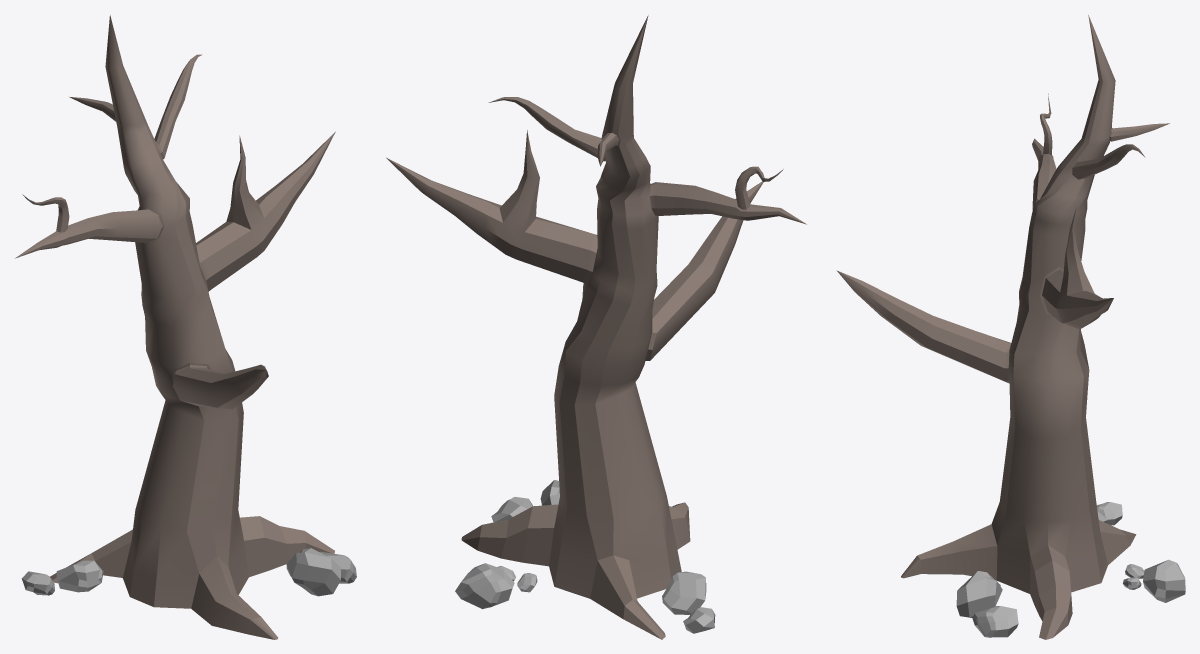
Rendered from ArbolMedio.fbx.
The picture shows the model from 3 angles, left to right: view 1: azimuth 30°, elevation 25°; view 2: azimuth 150°, elevation 25°; view 3: azimuth 270°, elevation 25°; orthographic projection. The views are drawn at different scales.
Parts seen in each view (by area): view 1: polySurface1, polySurface2, polySurface8, polySurface7, polySurface3; view 2: polySurface1, polySurface5, polySurface8, polySurface7, polySurface3; view 3: polySurface1, polySurface2, polySurface5, polySurface3.
Part boxes in pixels (left/top/right/bottom): polySurface1: left=15, top=15, right=335, bottom=639; polySurface2: left=286, top=548, right=340, bottom=596; polySurface8: left=56, top=560, right=103, bottom=592; polySurface7: left=21, top=571, right=54, bottom=595; polySurface3: left=320, top=551, right=356, bottom=583; polySurface1: left=386, top=15, right=806, bottom=639; polySurface5: left=455, top=563, right=514, bottom=609; polySurface8: left=662, top=571, right=706, bottom=614; polySurface7: left=683, top=607, right=715, bottom=633; polySurface3: left=491, top=497, right=532, bottom=522; polySurface1: left=836, top=15, right=1169, bottom=639; polySurface2: left=956, top=571, right=1002, bottom=618; polySurface5: left=1143, top=559, right=1185, bottom=602; polySurface3: left=972, top=606, right=1018, bottom=637.
Bounding box in the file's own units: 3.58 × 5.39 × 3.17.
